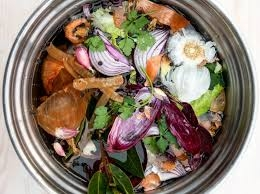kitchen_waste: (103, 84, 171, 151), (158, 97, 219, 153), (33, 83, 92, 139), (38, 39, 95, 94), (130, 27, 169, 89), (164, 31, 221, 67), (87, 41, 138, 78), (85, 159, 138, 194), (165, 63, 213, 101)
